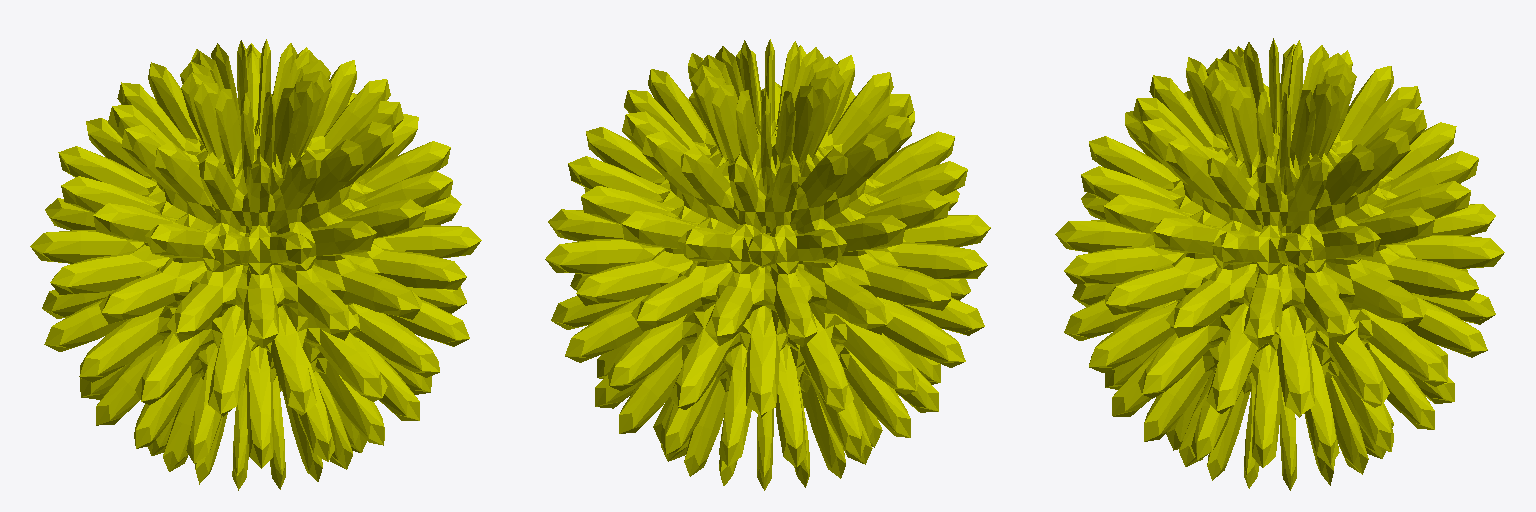
File: explosion2.obj
3 renders of one model, left to right at view 1: azimuth 30°, elevation 25°; view 2: azimuth 150°, elevation 25°; view 3: azimuth 270°, elevation 25°, orthographic.
Visible parts, largest first — view 1: Sphere; view 2: Sphere; view 3: Sphere.
Boxes of the visible parts, <box> form: Sphere: <box>30,39,481,490</box>; Sphere: <box>545,39,990,490</box>; Sphere: <box>1055,38,1504,490</box>.
Bounding box in the file's own units: 18.26 × 17.03 × 18.26.